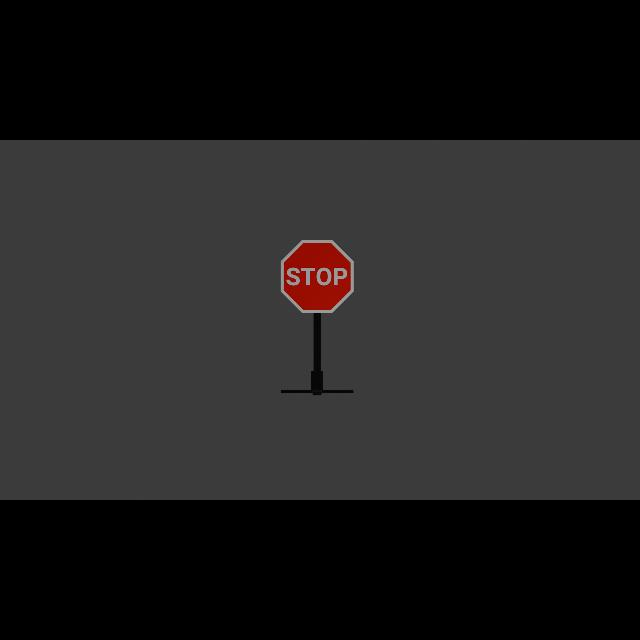sign_stop: (281, 240, 355, 315)
